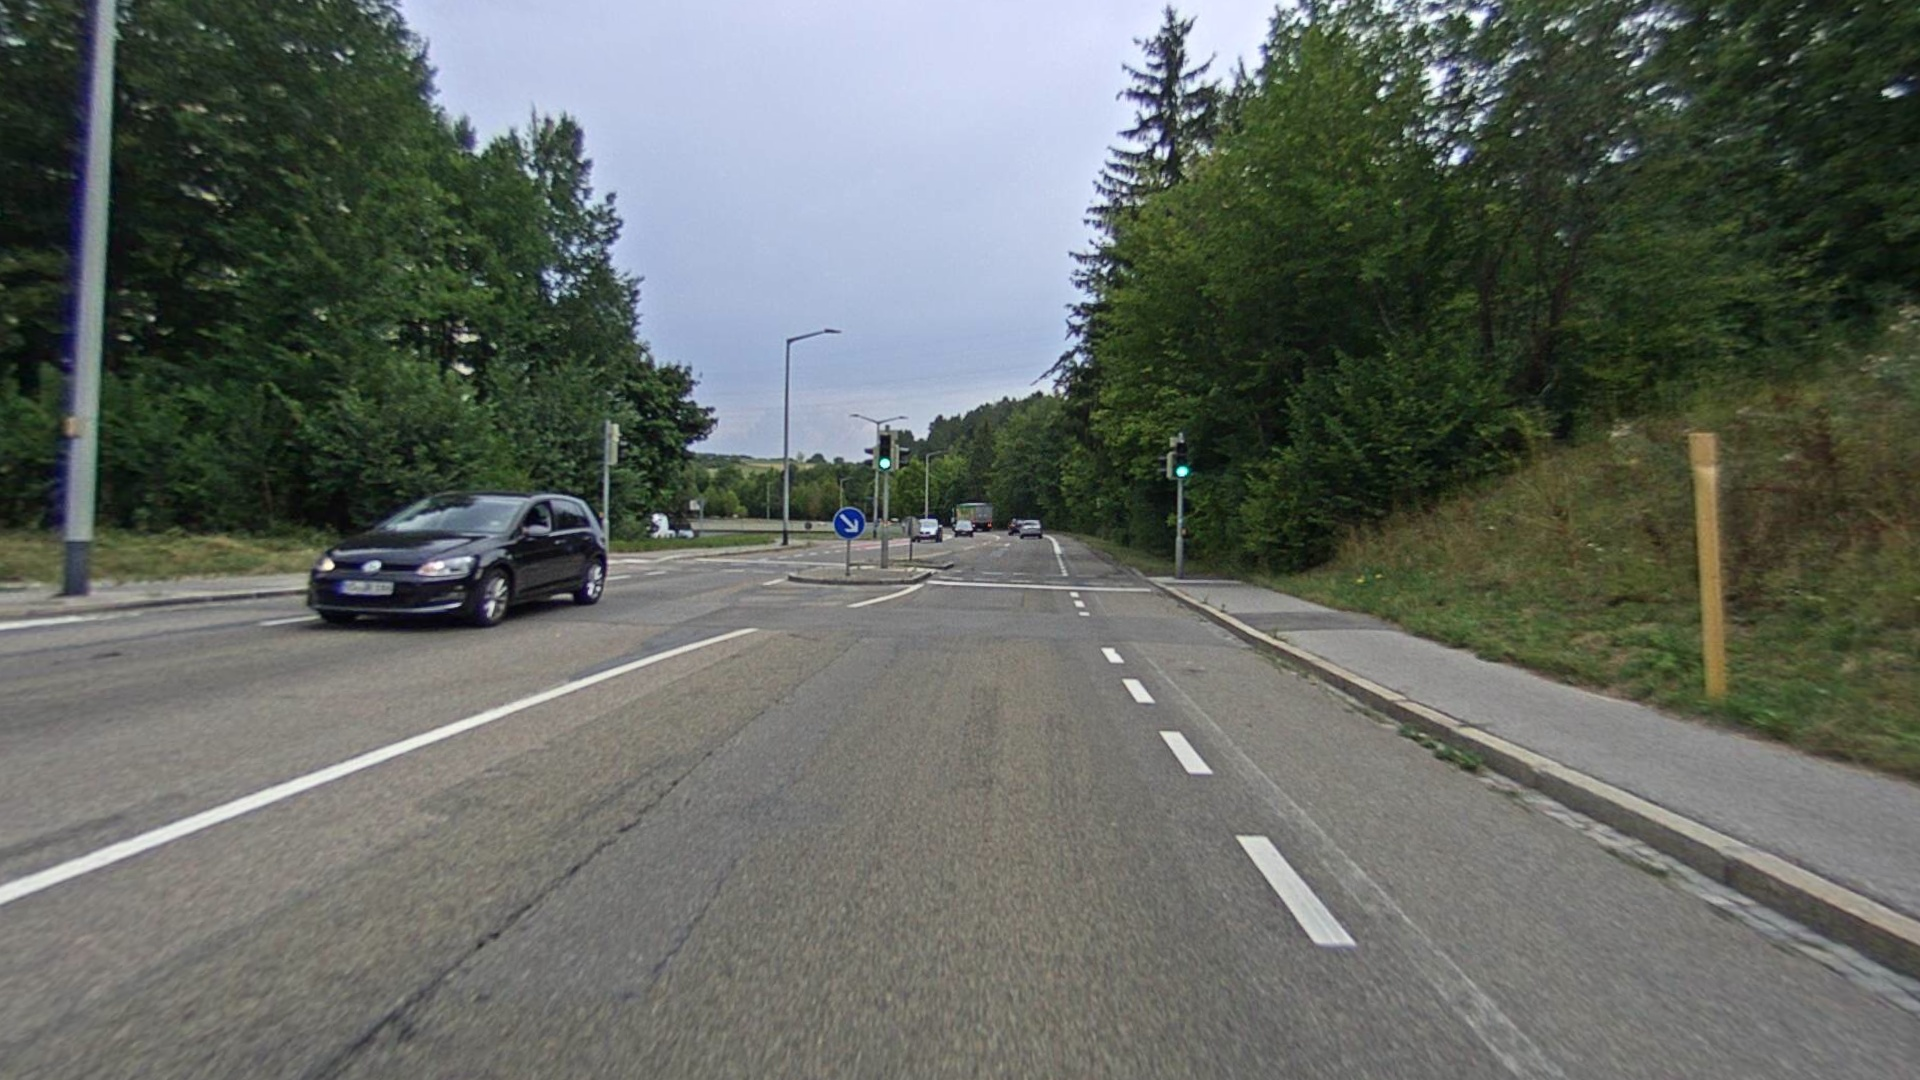car: (301, 488, 611, 630)
